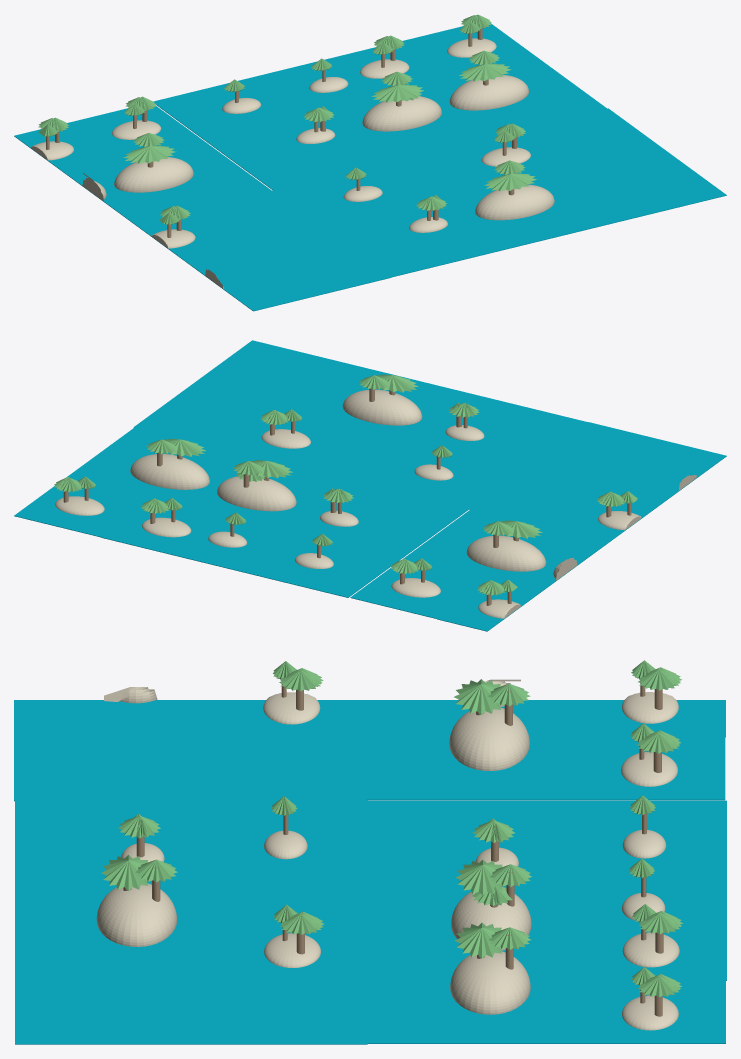
The model's file is Copy of Island .glb.
3 views of the same model, one above another, from view 1: azimuth 30°, elevation 25°; view 2: azimuth 150°, elevation 25°; view 3: azimuth 270°, elevation 25° (orthographic). The views are drawn at different scales.
Visible parts, largest first — view 1: Mesh_Mesh_head_geo.001_lambert2SG.001; view 2: Mesh_Mesh_head_geo.001_lambert2SG.001; view 3: Mesh_Mesh_head_geo.001_lambert2SG.001.
Part boxes in pixels (left/top/right/bottom): Mesh_Mesh_head_geo.001_lambert2SG.001: left=14, top=14, right=726, bottom=311; Mesh_Mesh_head_geo.001_lambert2SG.001: left=14, top=340, right=726, bottom=631; Mesh_Mesh_head_geo.001_lambert2SG.001: left=14, top=660, right=726, bottom=1044.
Bounding box in the file's own units: 960 × 81 × 841.
